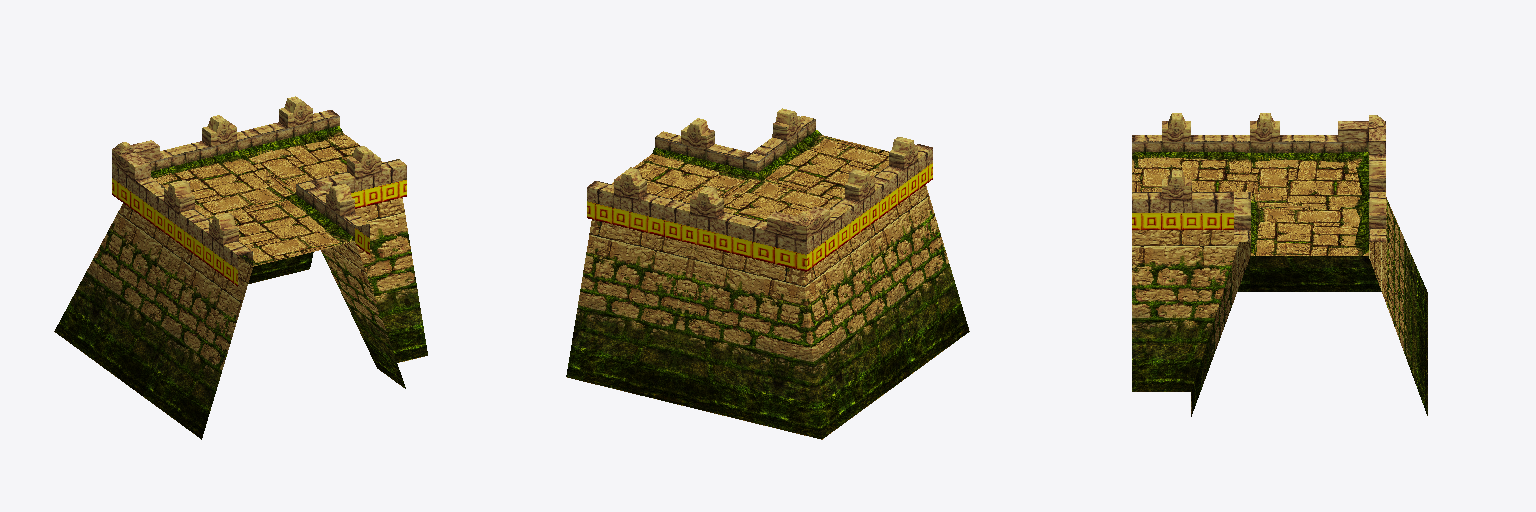
The picture shows the model from 3 angles: view 1: azimuth 30°, elevation 25°; view 2: azimuth 150°, elevation 25°; view 3: azimuth 270°, elevation 25°; orthographic projection.
Visible parts, largest first — view 1: Object78-Pivot; view 2: Object78-Pivot; view 3: Object78-Pivot.
Part boxes in pixels (x1,y1,x2,y2): Object78-Pivot: (54,96,427,439); Object78-Pivot: (566,108,969,439); Object78-Pivot: (1132,113,1427,416).
Size of the model in its own units: 50.02 by 36.8 by 50.01.
Materials: 1 (1 with a texture image).